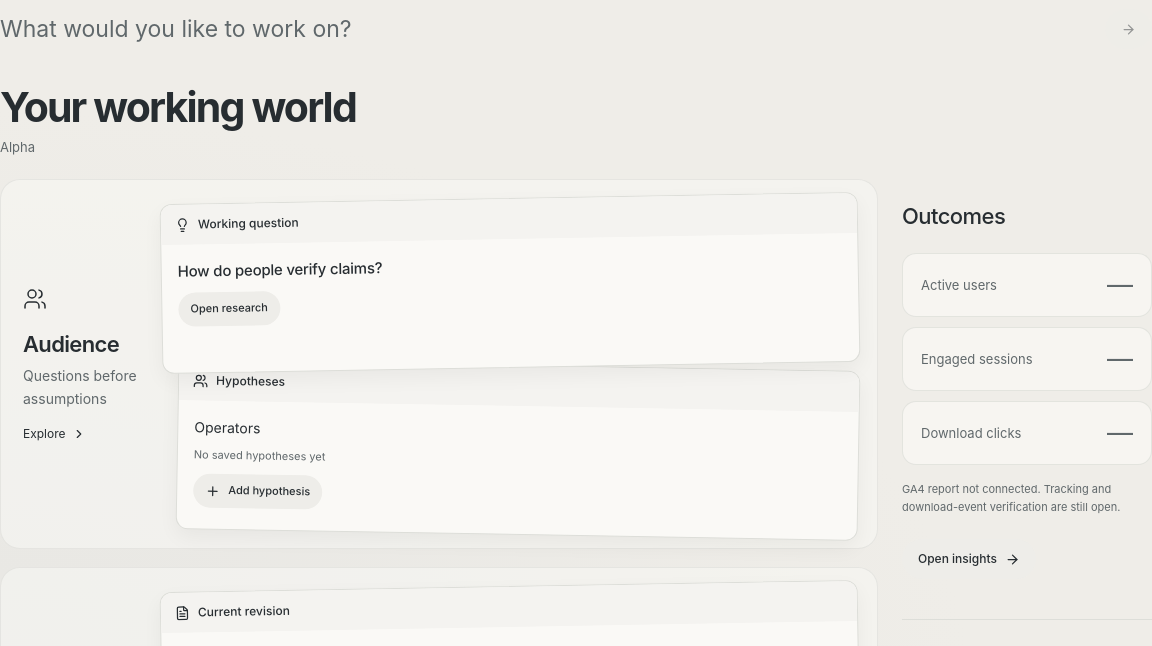
contextual studio interactions with the real API client › shows active automatic drafting without claiming publication
In the field named "New topic or suggestion": (546,29) [0, 1, 1091, 57], type "Teach a method"
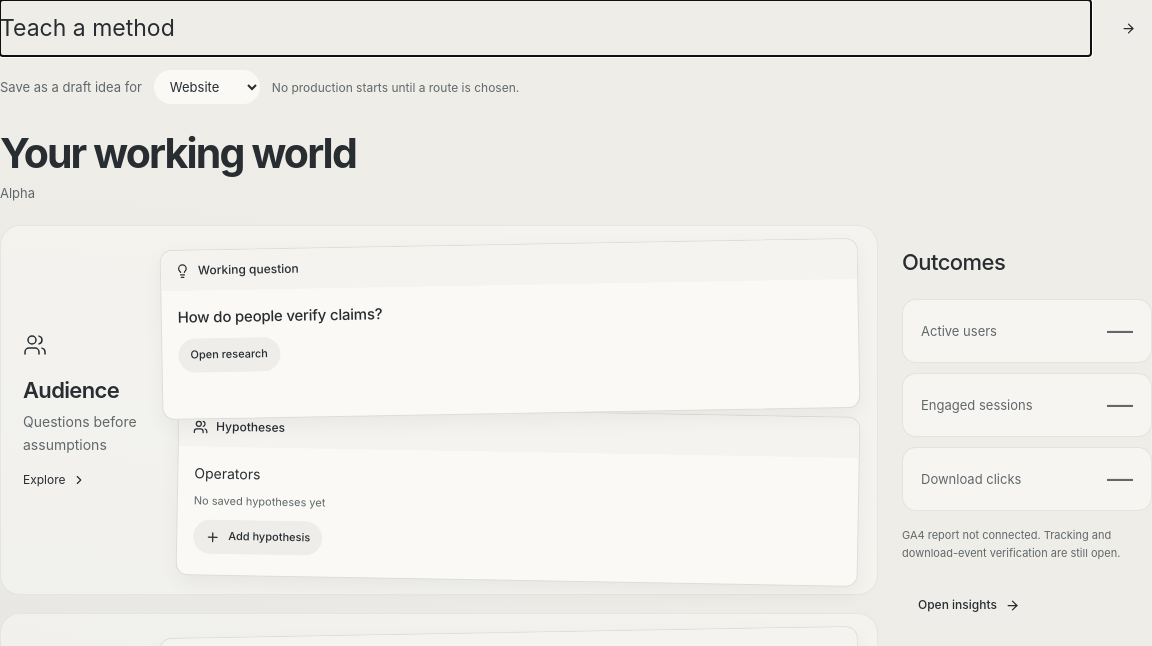
Click the button named "Save idea": (1128,28) [1105, 8, 1151, 48]
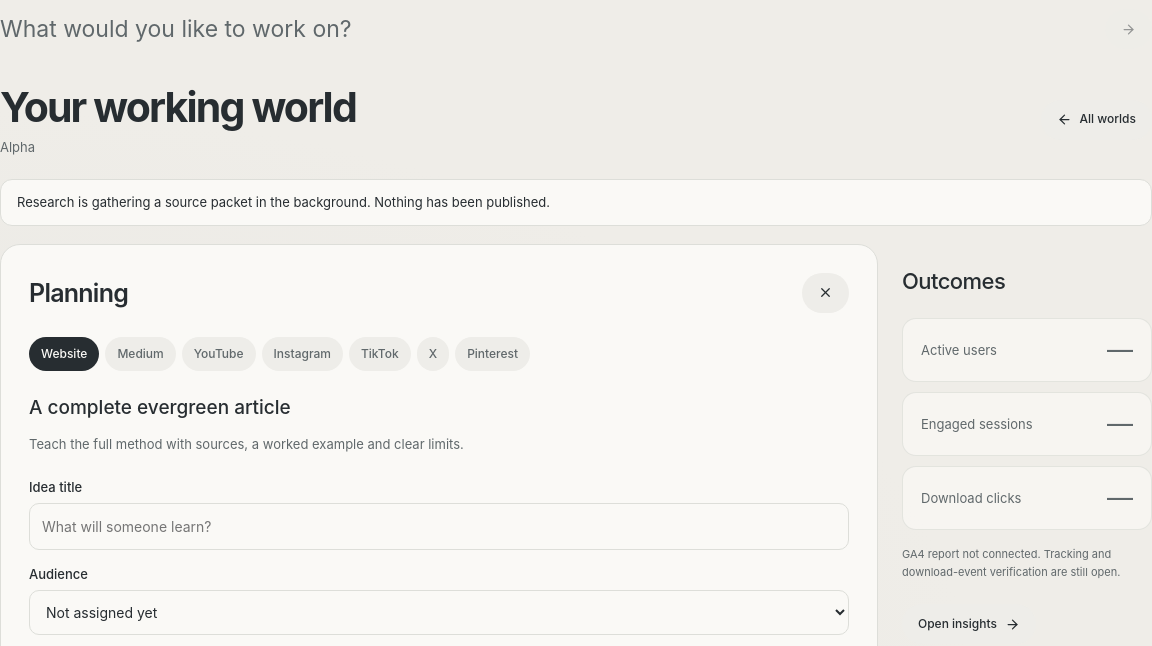
Check: the text "Research is gathering a source packet in the background. Nothing has been published." is shown, box [17, 194, 550, 210]
